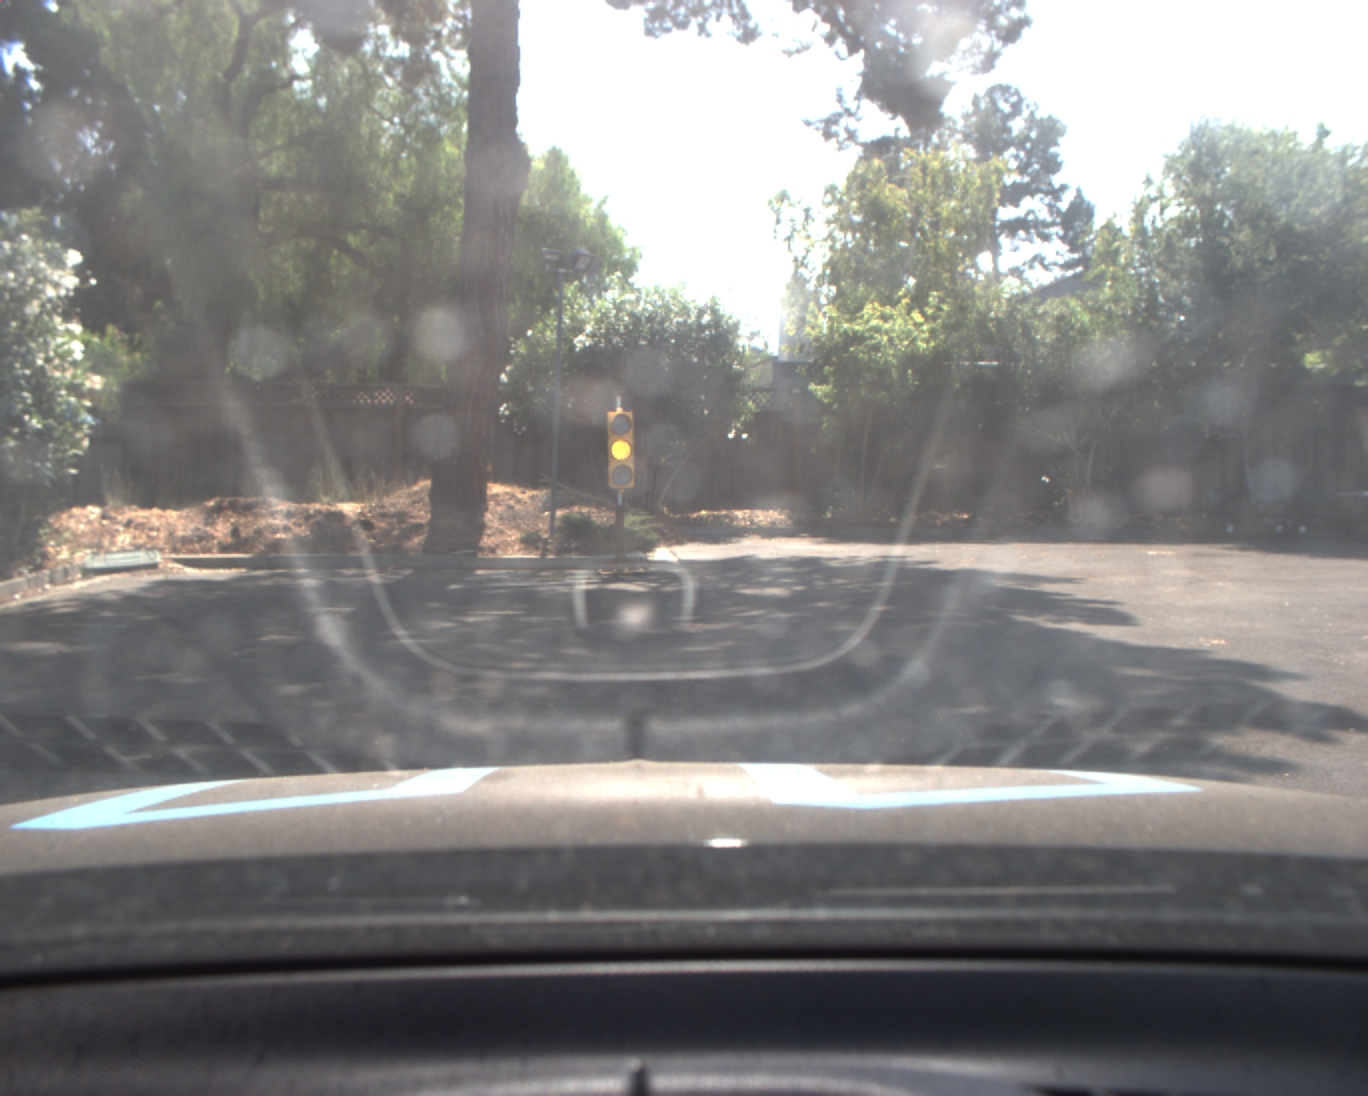yellow: (605, 411, 637, 491)
